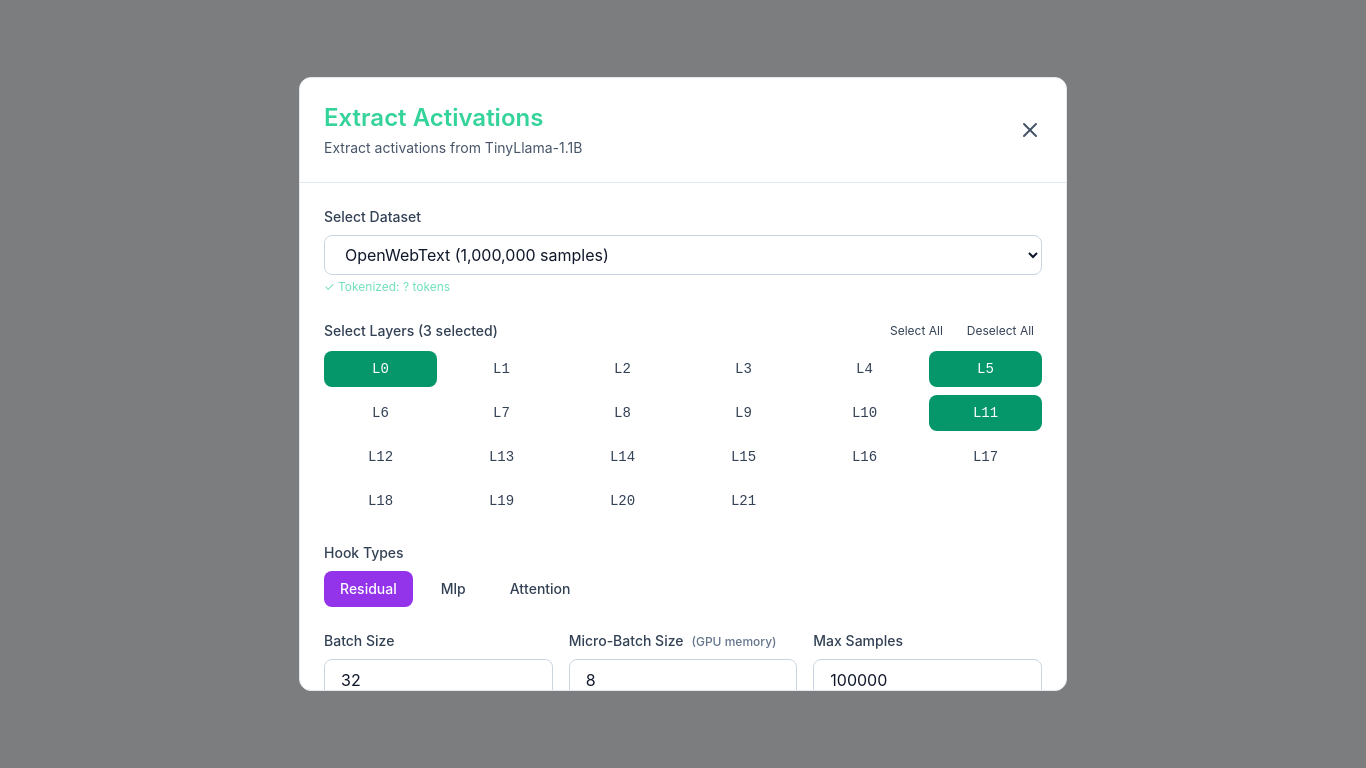
ActivationExtractionConfig › Layer Selection › should deselect all layers when Deselect All clicked
Click the button "Deselect All". click: click(1000, 331)
box: [959, 319, 1042, 343]
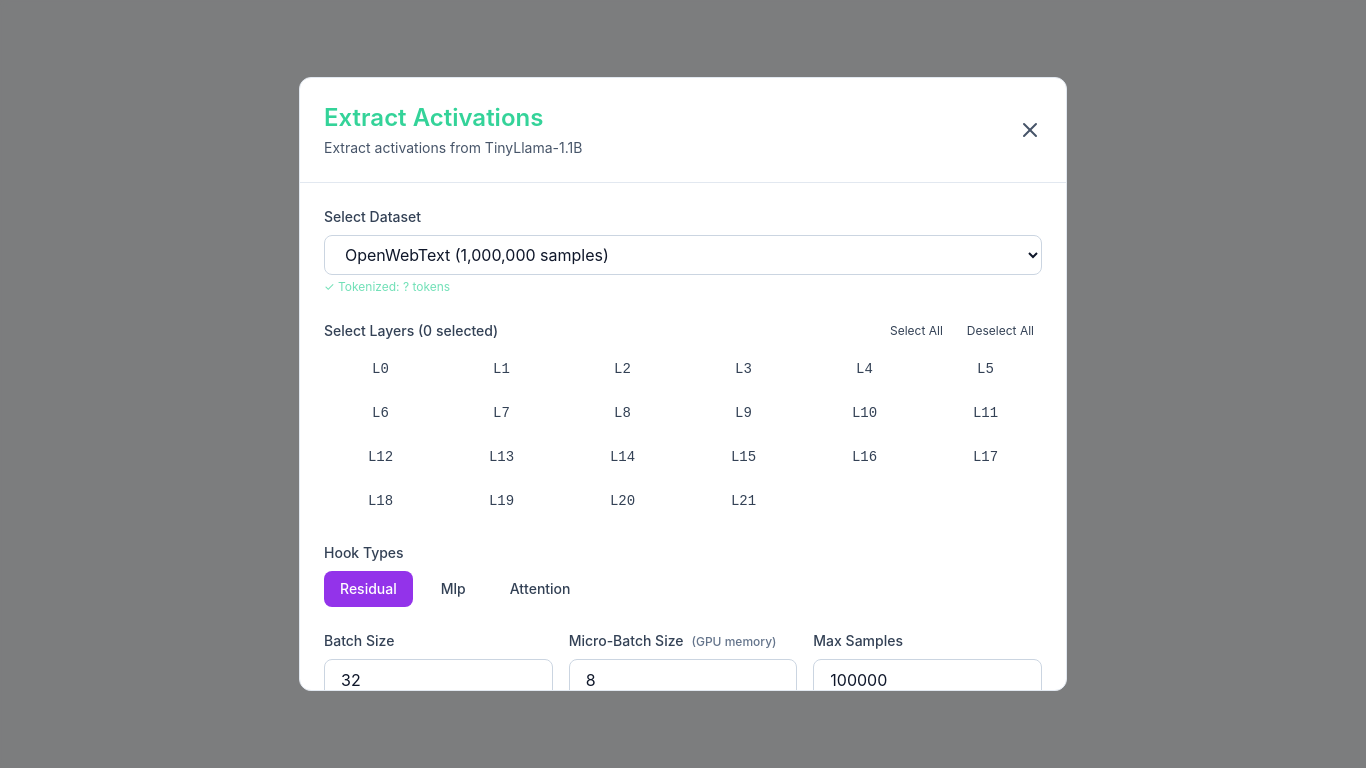
Expected: the text "Select Layers (0 selected)" is shown, [324, 321, 498, 341]
